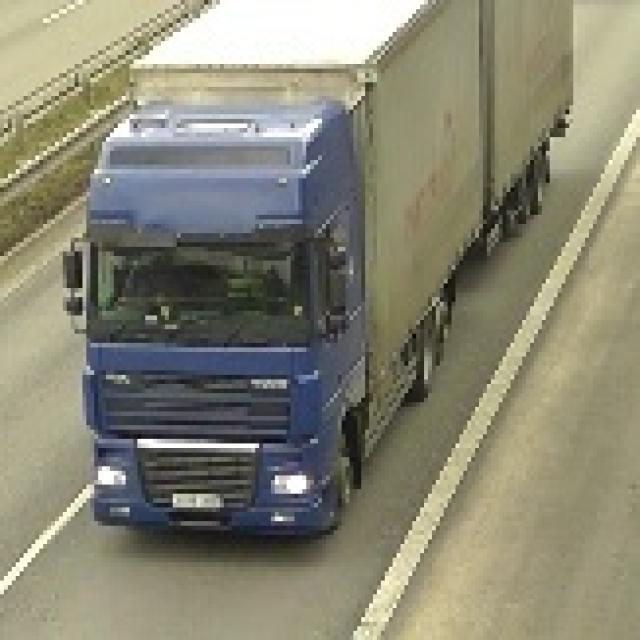TRUCK: (78, 0, 582, 540)
